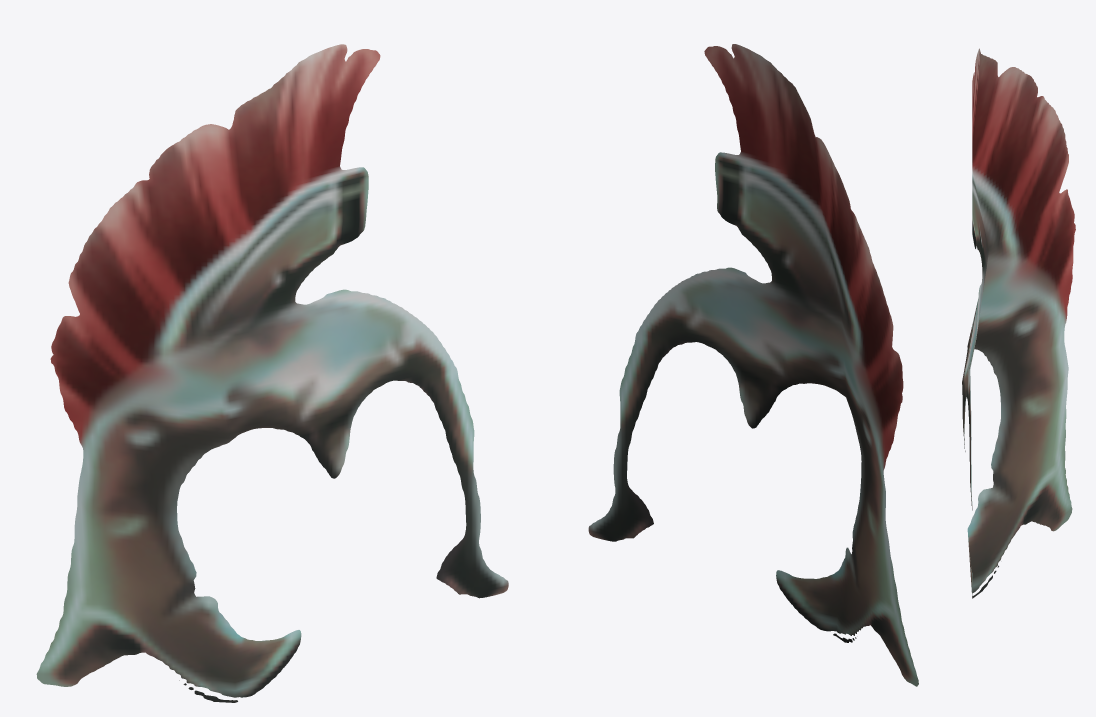
The model's file is Cat Prop Greek Helmet.FBX.
The picture shows the model from 3 angles, left to right: view 1: azimuth 30°, elevation 25°; view 2: azimuth 150°, elevation 25°; view 3: azimuth 270°, elevation 25°; orthographic projection. The views are drawn at different scales.
Visible parts, largest first — view 1: Cat Prop Greek Helmet; view 2: Cat Prop Greek Helmet; view 3: Cat Prop Greek Helmet.
Part boxes in pixels (x1,y1,x2,y2): Cat Prop Greek Helmet: [36, 44, 508, 702]; Cat Prop Greek Helmet: [588, 44, 918, 686]; Cat Prop Greek Helmet: [962, 48, 1075, 598].
Bounding box in the file's own units: 90.43 × 22.32 × 121.
